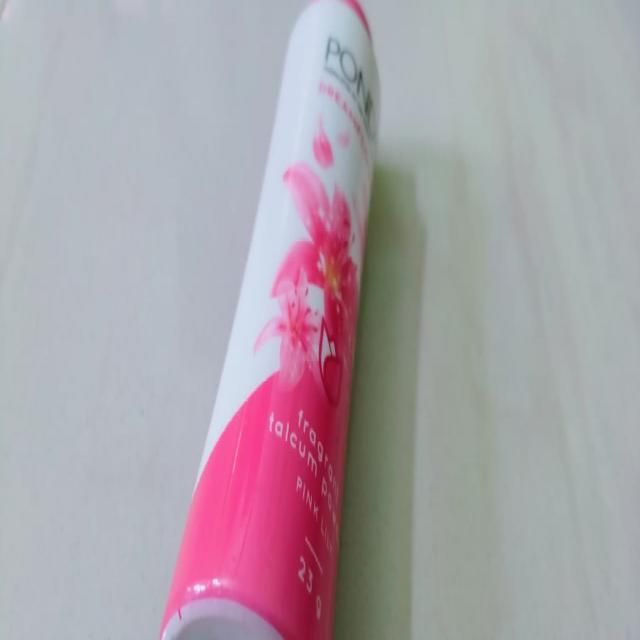powder: (158, 0, 382, 640)
